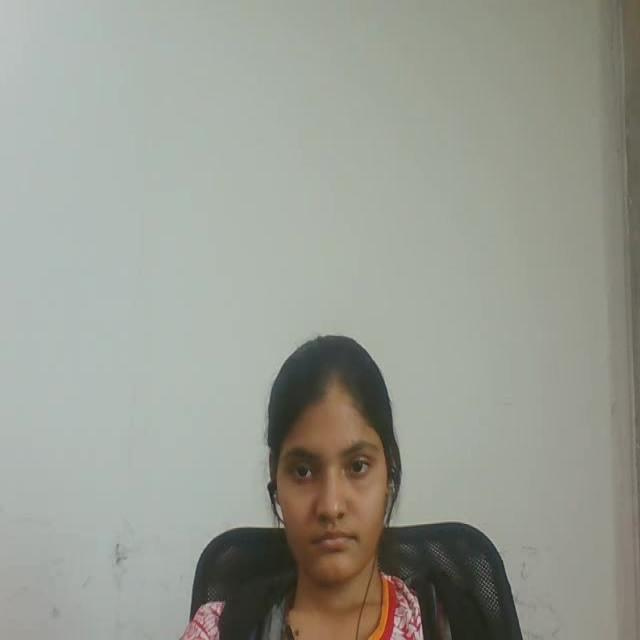Engaged: (228, 288, 427, 611)
